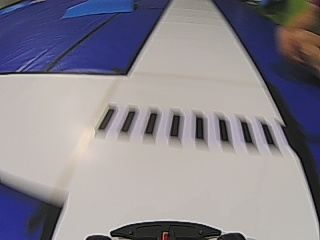CrossWalk: (94, 106, 275, 148)
